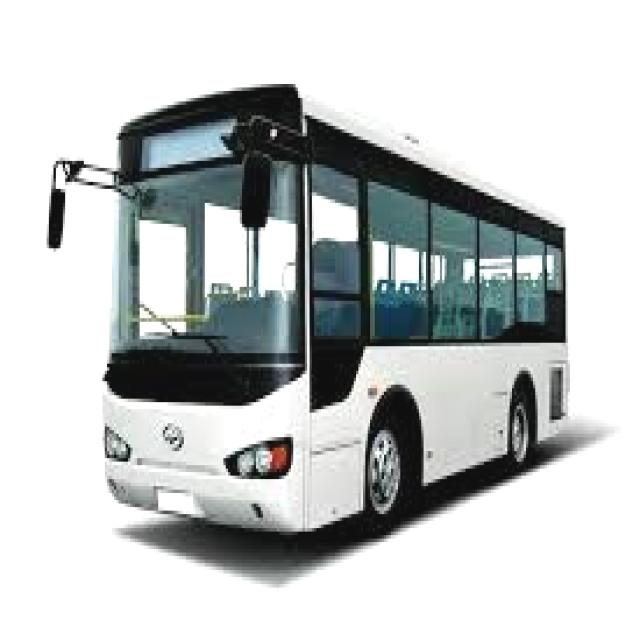bus: (44, 64, 587, 547)
